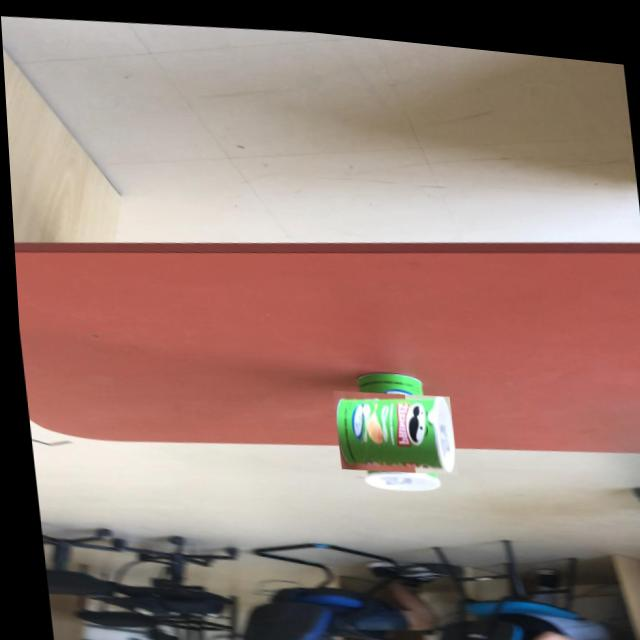a pringles: (337, 369, 445, 481)
